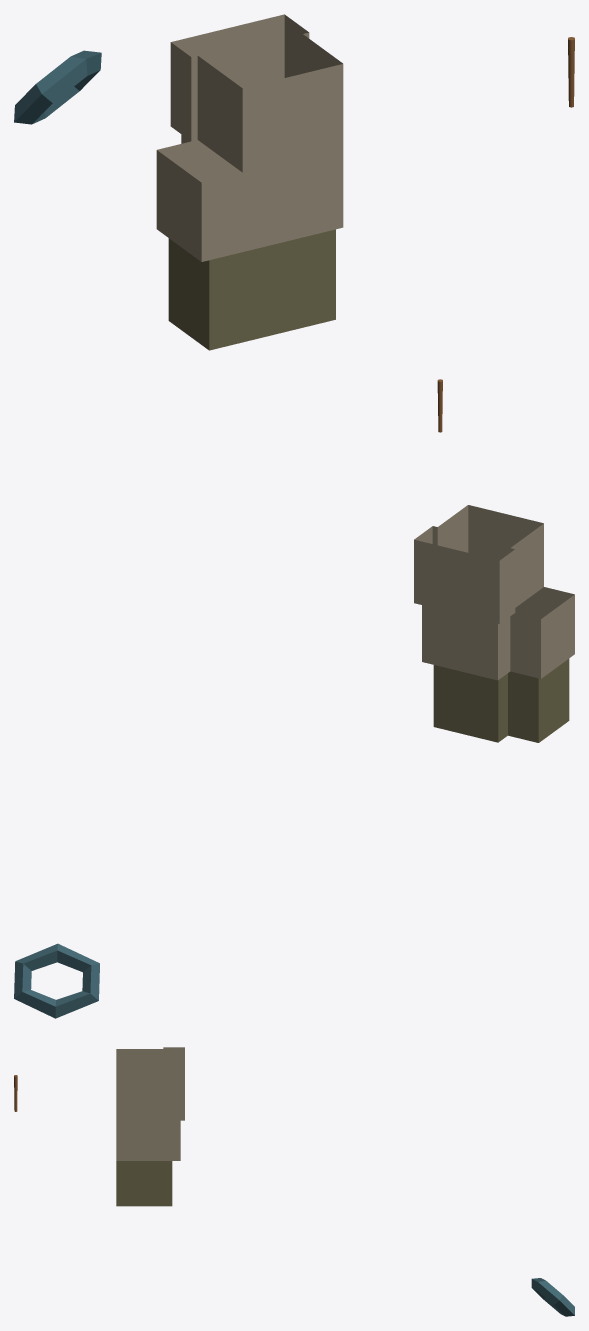
3 views of the same model, one above another, from view 1: azimuth 30°, elevation 25°; view 2: azimuth 150°, elevation 25°; view 3: azimuth 270°, elevation 25° (orthographic). The views are drawn at different scales.
Visible parts, largest first — view 1: Object194_wall3_0, Object194_rock2_0, Torus068_metal_0, Cylinder1702_brown_0; view 2: Object194_wall3_0, Object194_rock2_0, Torus068_metal_0; view 3: Object194_wall3_0, Object194_rock2_0, Torus068_metal_0.
Boxes of the visible parts, <box> form: Object194_wall3_0: <box>156,14,343,261</box>; Object194_rock2_0: <box>168,229,335,350</box>; Torus068_metal_0: <box>14,50,101,124</box>; Cylinder1702_brown_0: <box>568,37,574,107</box>; Object194_wall3_0: <box>414,505,574,680</box>; Object194_rock2_0: <box>433,658,569,742</box>; Torus068_metal_0: <box>14,943,99,1018</box>; Object194_wall3_0: <box>116,1047,184,1160</box>; Object194_rock2_0: <box>116,1161,172,1206</box>; Torus068_metal_0: <box>531,1278,574,1316</box>.
Bounding box in the file's own units: 1150 × 1566 × 3304.
